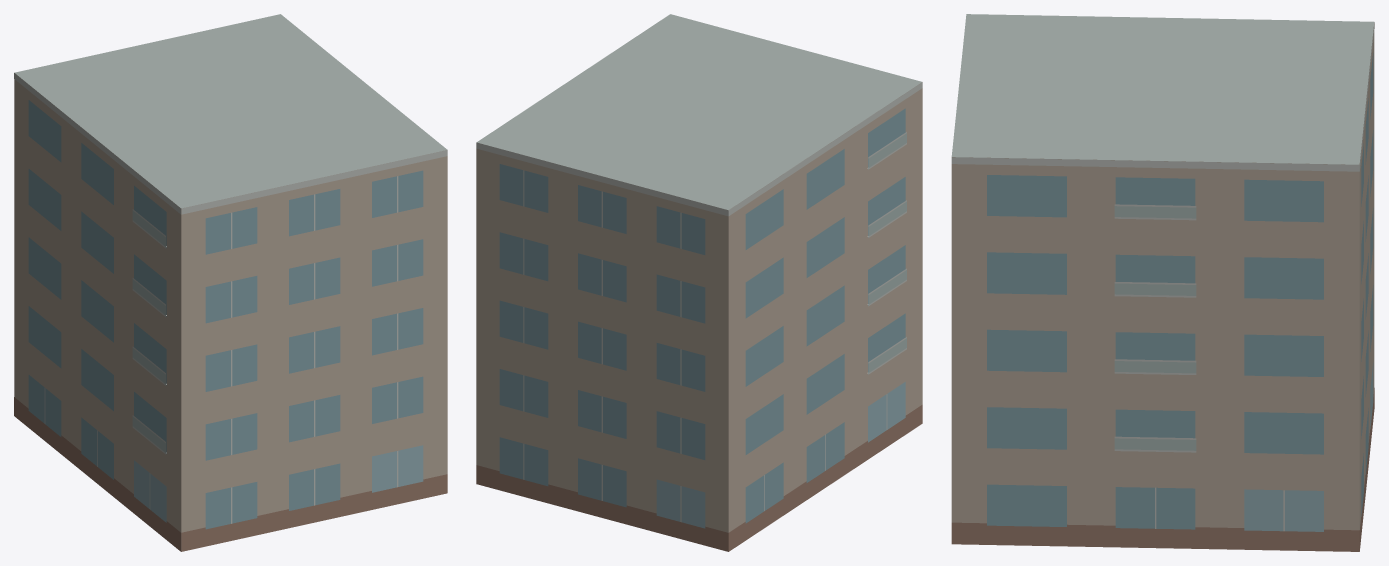
Rendered from survey-upis-32838143.glb.
3 renders of one model, left to right at view 1: azimuth 30°, elevation 25°; view 2: azimuth 150°, elevation 25°; view 3: azimuth 270°, elevation 25°, orthographic. The views are drawn at different scales.
Parts seen in each view (by area): view 1: survey-upis-32838143.tmp; view 2: survey-upis-32838143.tmp; view 3: survey-upis-32838143.tmp.
Boxes of the visible parts, x1=… form: survey-upis-32838143.tmp: x1=14, y1=14, x2=447, y2=551; survey-upis-32838143.tmp: x1=476, y1=14, x2=922, y2=551; survey-upis-32838143.tmp: x1=951, y1=14, x2=1374, y2=551.
Size of the model in its own units: 11.28 by 13.5 by 13.37.
